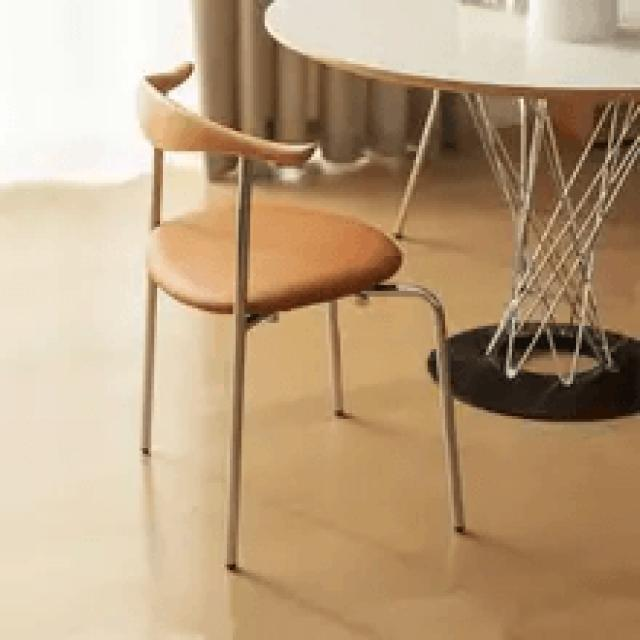chair: (133, 52, 471, 574), (137, 54, 403, 316)
